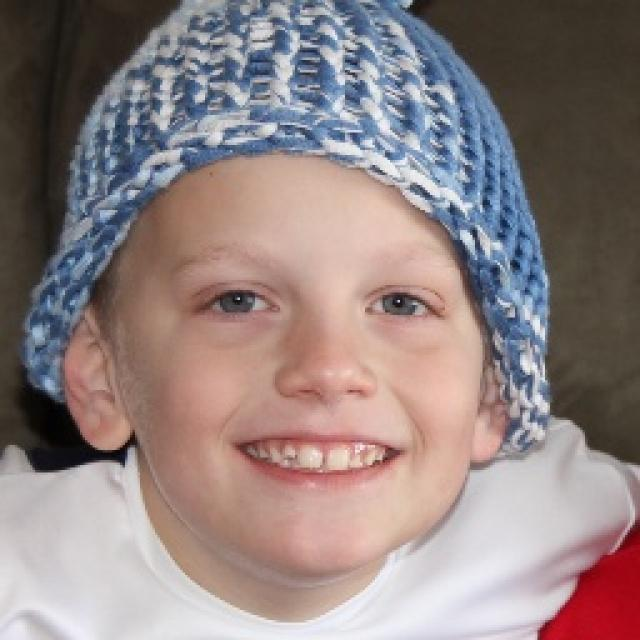earlobe: (86, 400, 134, 455), (469, 418, 505, 466)
eye: (364, 285, 446, 327), (199, 285, 284, 324)
nose: (274, 377, 379, 431)
wholeear: (60, 304, 135, 455), (470, 307, 514, 467)
